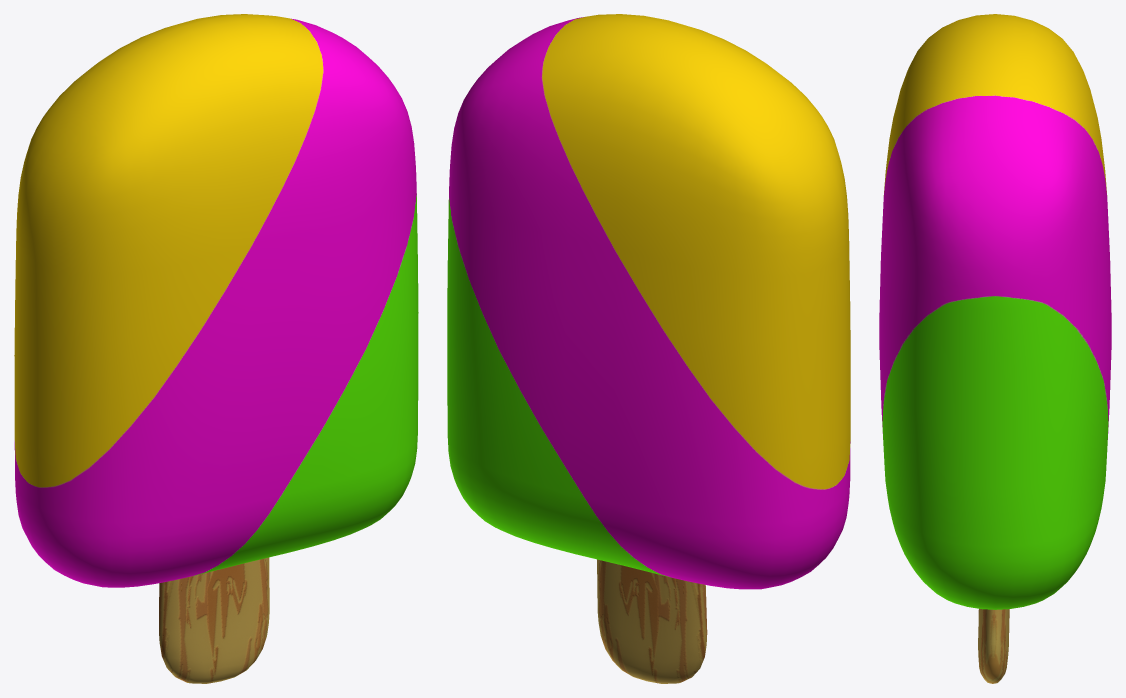
The model's file is zenly.glb.
3 renders of one model, left to right at view 1: azimuth 30°, elevation 25°; view 2: azimuth 150°, elevation 25°; view 3: azimuth 270°, elevation 25°, orthographic. The views are drawn at different scales.
Visible parts, largest first — view 1: Zenly Logo; view 2: Zenly Logo; view 3: Zenly Logo.
Part boxes in pixels (bbox=[...]): Zenly Logo: bbox=[14, 14, 418, 683]; Zenly Logo: bbox=[447, 14, 850, 683]; Zenly Logo: bbox=[879, 14, 1111, 683].
Size of the model in its own units: 1.19 by 1.97 by 0.6517.
1 material, 1 textured.
